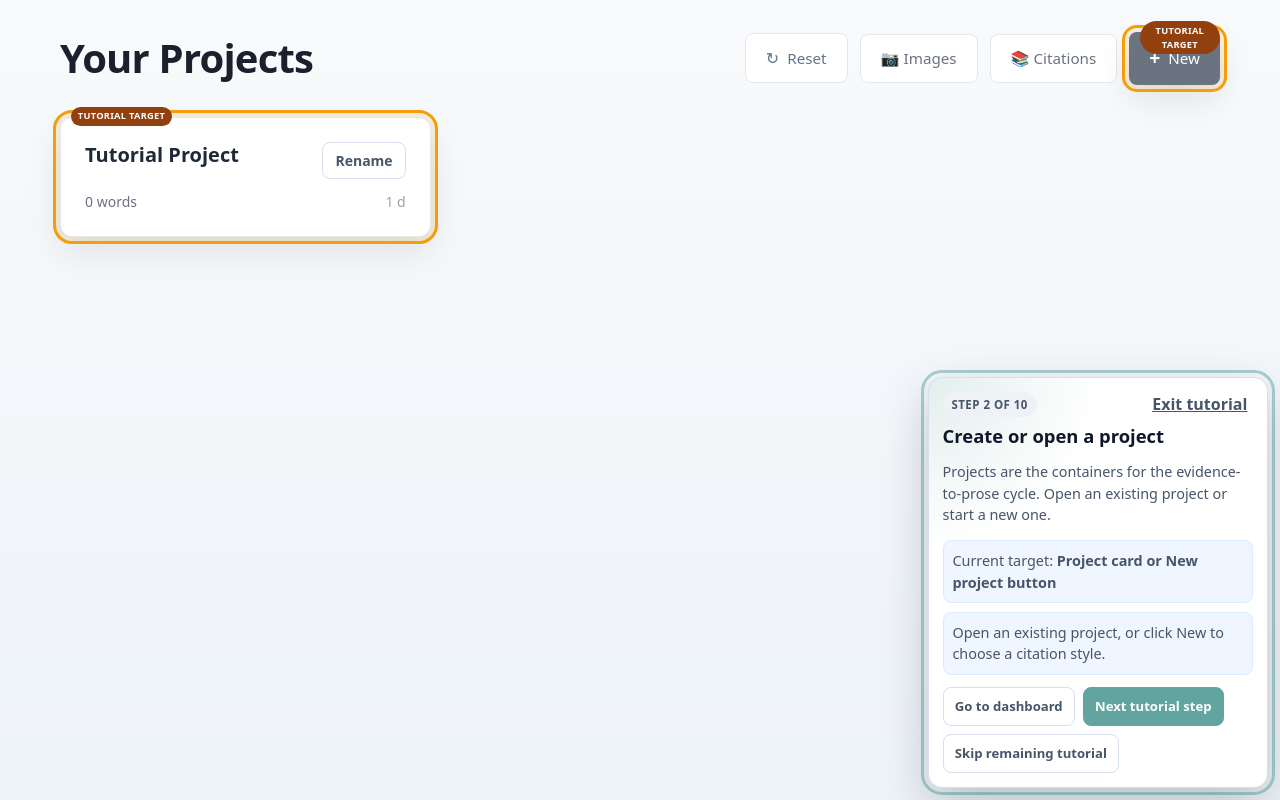
tutorial step advances only after the required action is completed
Check: the dialog "Create or open a project" is shown, box [928, 377, 1268, 788]
Check: the button "Next tutorial step" is disabled, box [1083, 687, 1224, 726]
Click the heading "Tutorial Project". click: x=162, y=155
box: [85, 142, 239, 168]
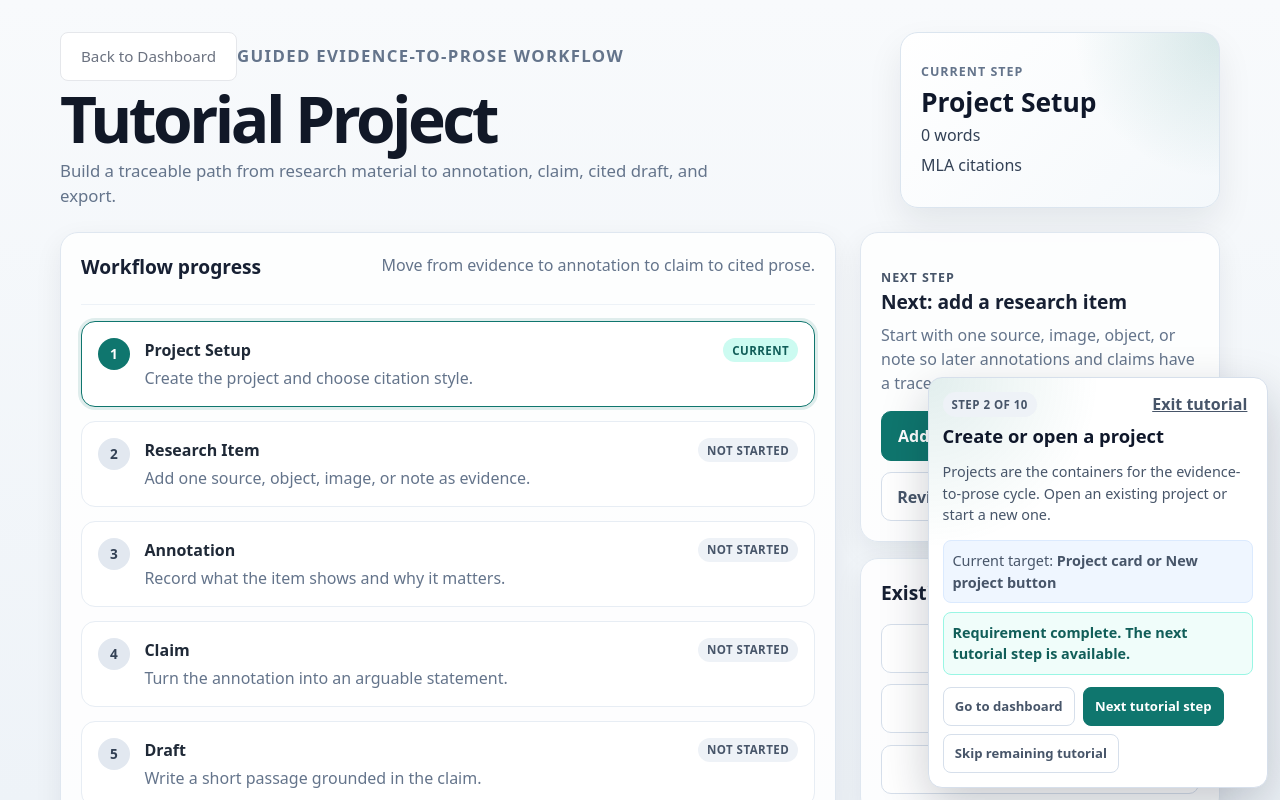
Click the button "Next tutorial step". click: x=1153, y=706
box: [1083, 687, 1224, 726]
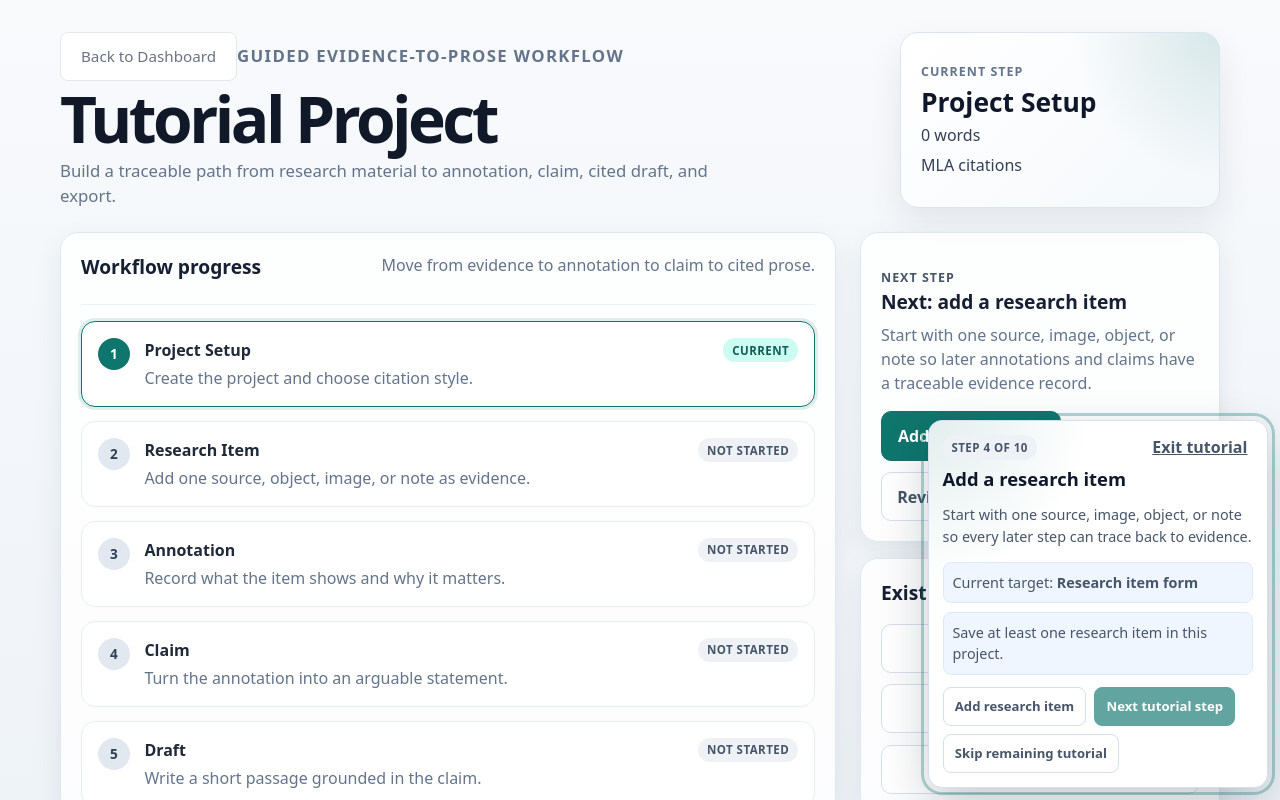
Check: the dialog "Add a research item" is shown, box [928, 420, 1268, 788]
